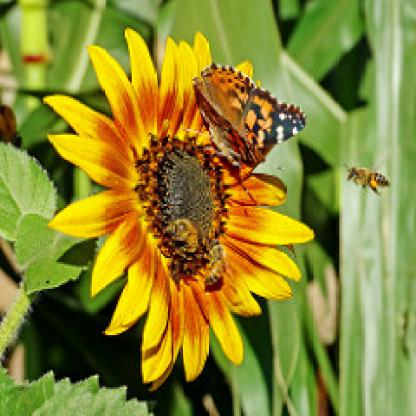SUN FLOWER: (11, 24, 348, 392)
